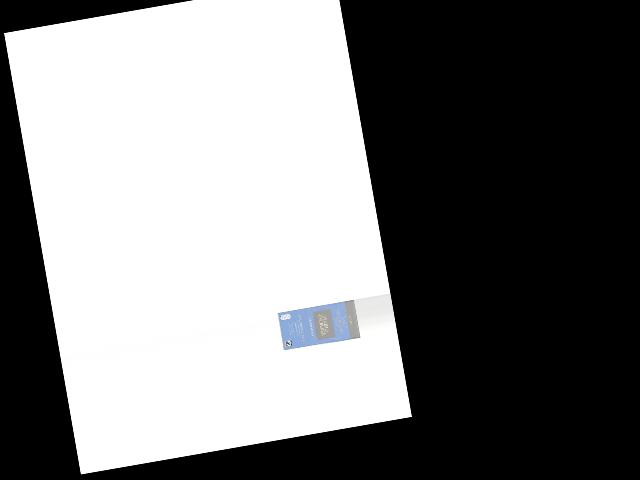chocolate: (278, 298, 360, 351)
